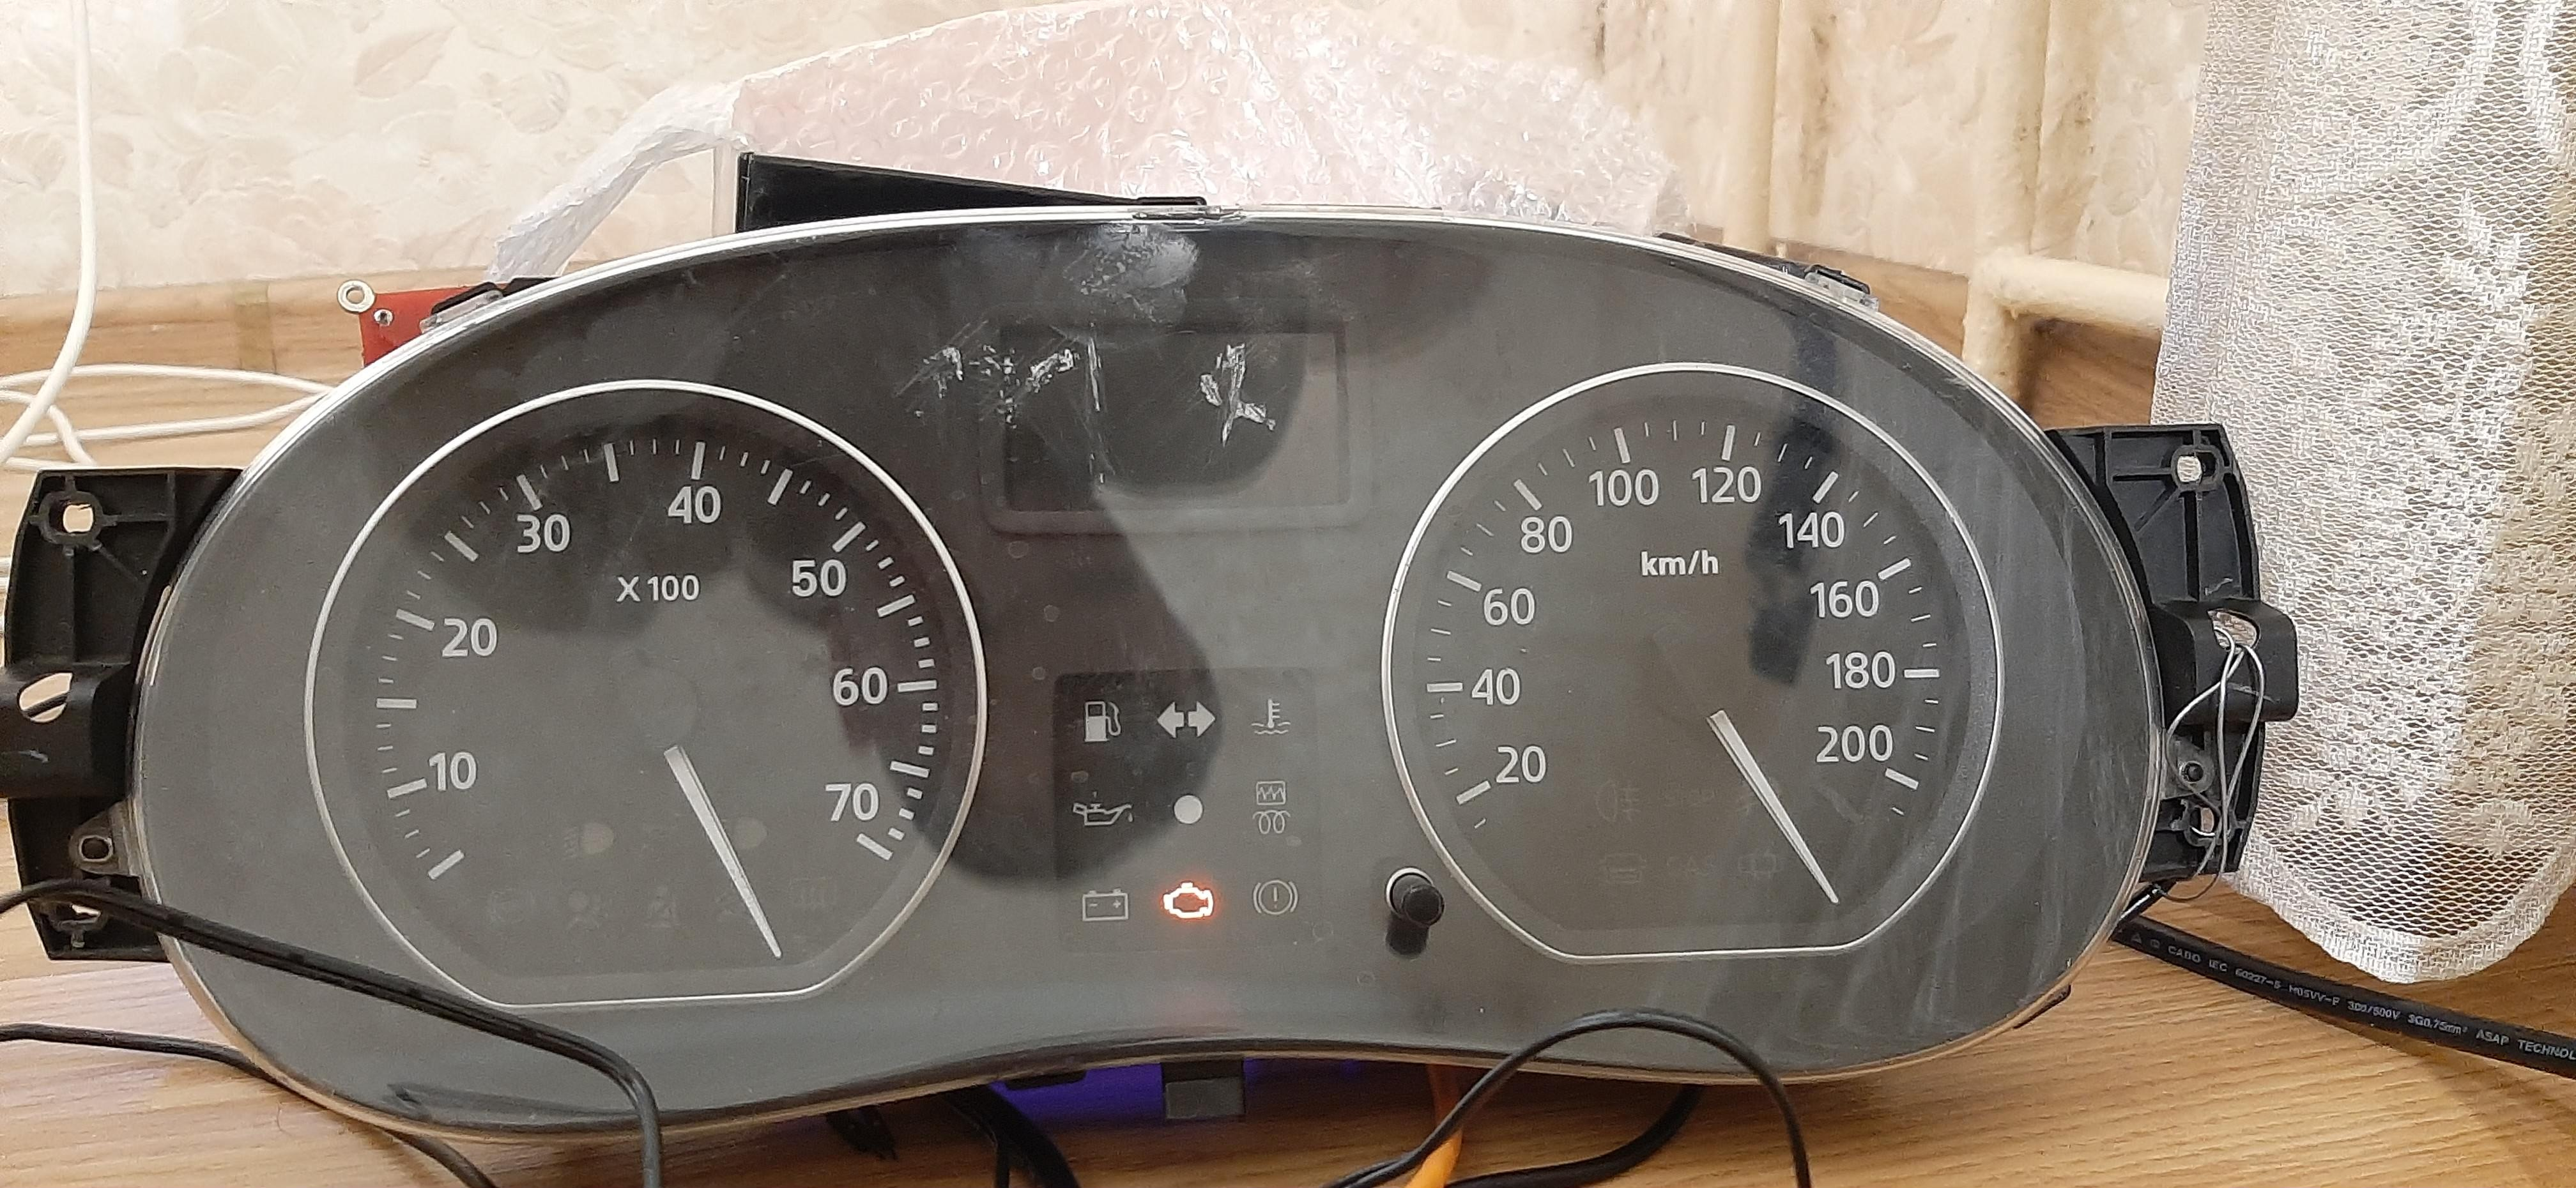engine8: (1160, 881, 1216, 922)
